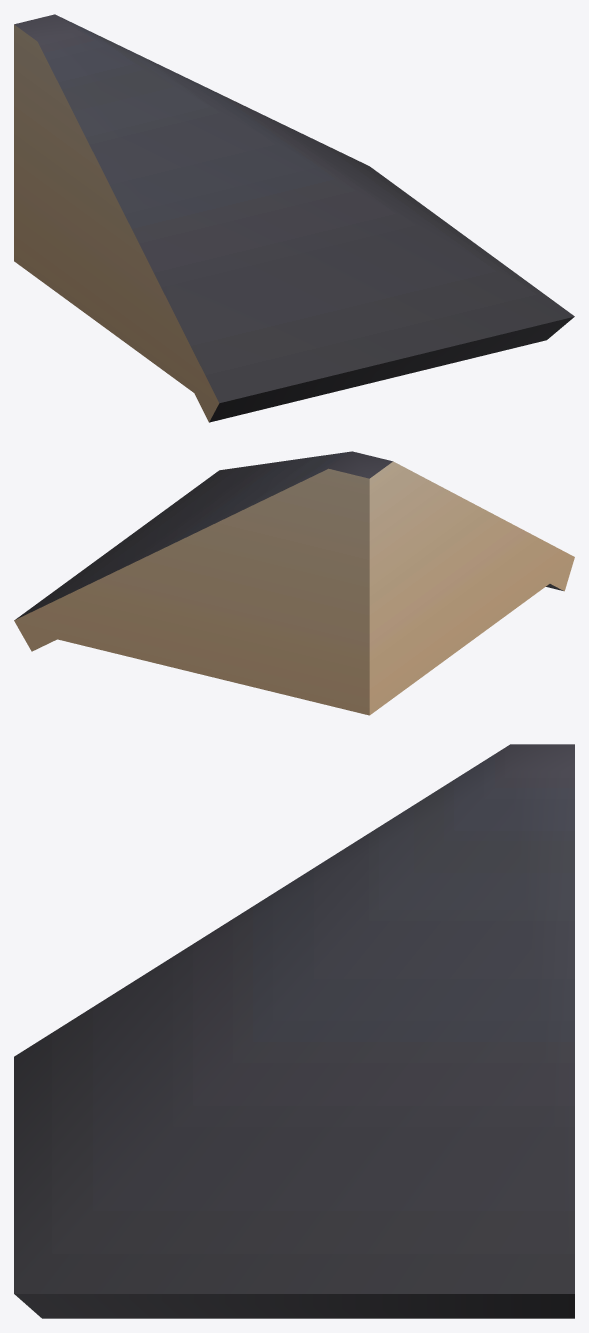
File: kenney-modular-buildings-roof-slanted-corner-c.glb
3 views of the same model, one above another, from view 1: azimuth 30°, elevation 25°; view 2: azimuth 150°, elevation 25°; view 3: azimuth 270°, elevation 25° (orthographic). The views are drawn at different scales.
Parts seen in each view (by area): view 1: roof-slanted-corner-c; view 2: roof-slanted-corner-c; view 3: roof-slanted-corner-c.
Part boxes in pixels (box(x1,y1,x2,y2)): roof-slanted-corner-c: box(14, 14, 574, 422); roof-slanted-corner-c: box(14, 451, 574, 715); roof-slanted-corner-c: box(14, 744, 574, 1318).
Bounding box in the file's own units: 1.14 × 0.782 × 1.14.
Materials: 1 (1 with a texture image).
